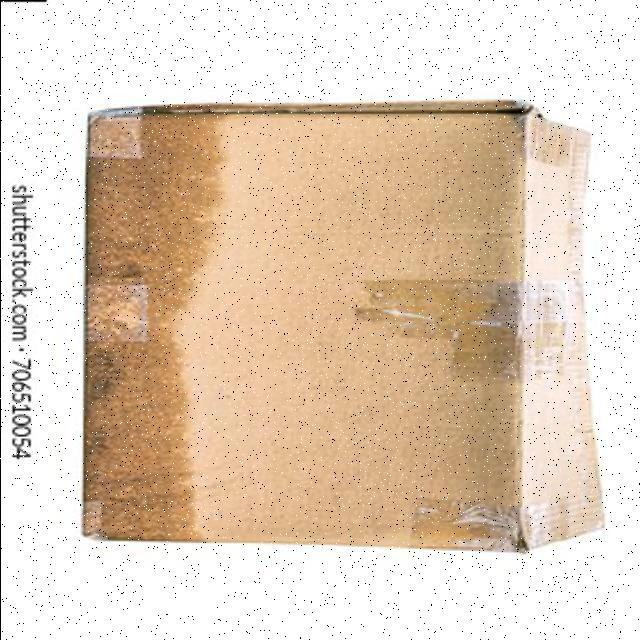defect: (79, 92, 604, 554)
